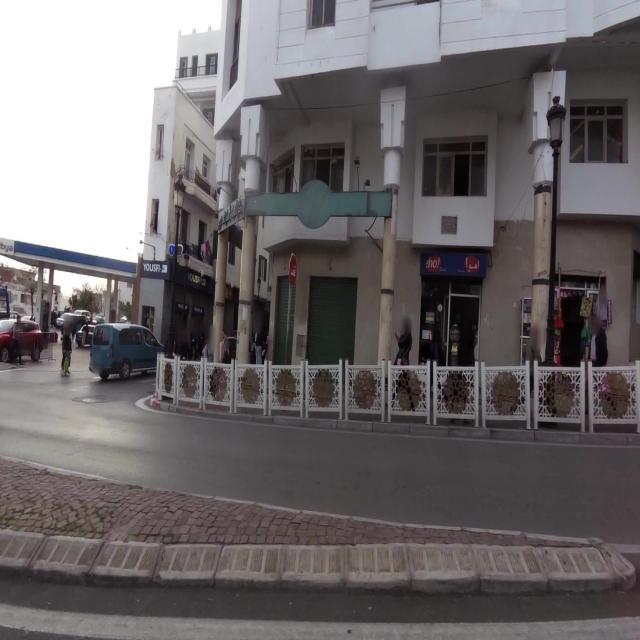car: (88, 322, 166, 382), (0, 316, 43, 363), (74, 322, 98, 348)
